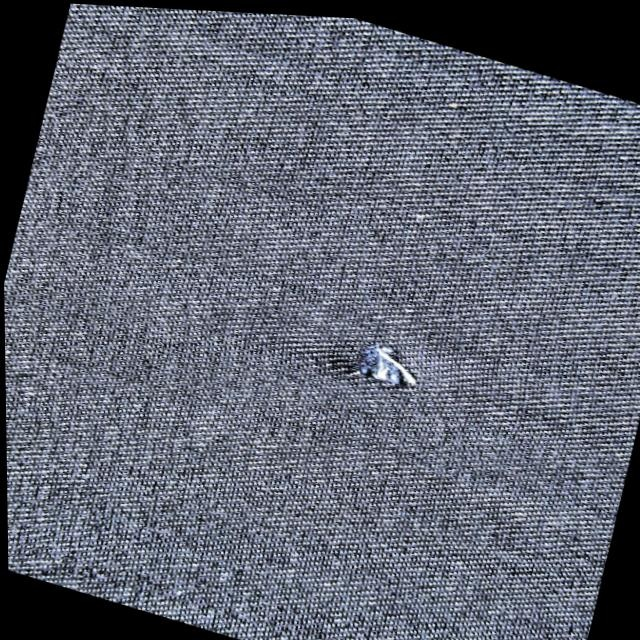Stitch: (305, 310, 455, 426)
